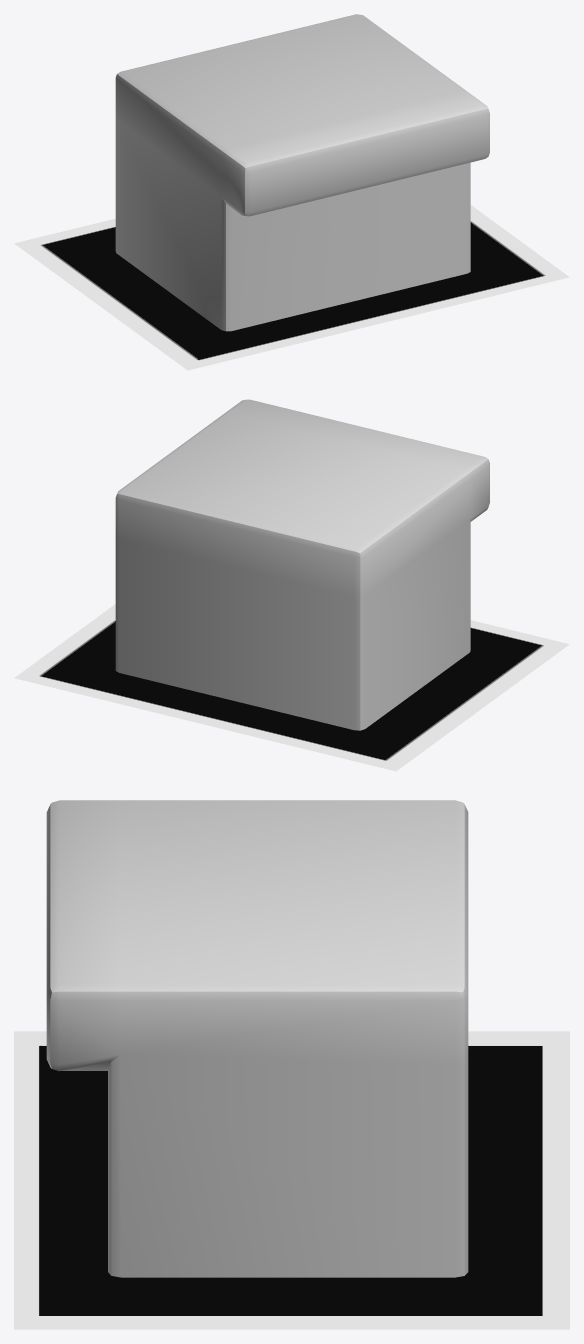
Rendered from SM_Prop_Counter Small.fbx.
3 views of the same model, one above another, from view 1: azimuth 30°, elevation 25°; view 2: azimuth 150°, elevation 25°; view 3: azimuth 270°, elevation 25° (orthographic). The views are drawn at different scales.
Parts seen in each view (by area): view 1: SM_Prop_Counter Small; view 2: SM_Prop_Counter Small; view 3: SM_Prop_Counter Small.
Part boxes in pixels (box(x1,y1,x2,y2)): SM_Prop_Counter Small: box(14, 14, 569, 370); SM_Prop_Counter Small: box(14, 399, 569, 771); SM_Prop_Counter Small: box(14, 800, 569, 1329).
Size of the model in its own units: 1.67 by 0.7768 by 1.31.
